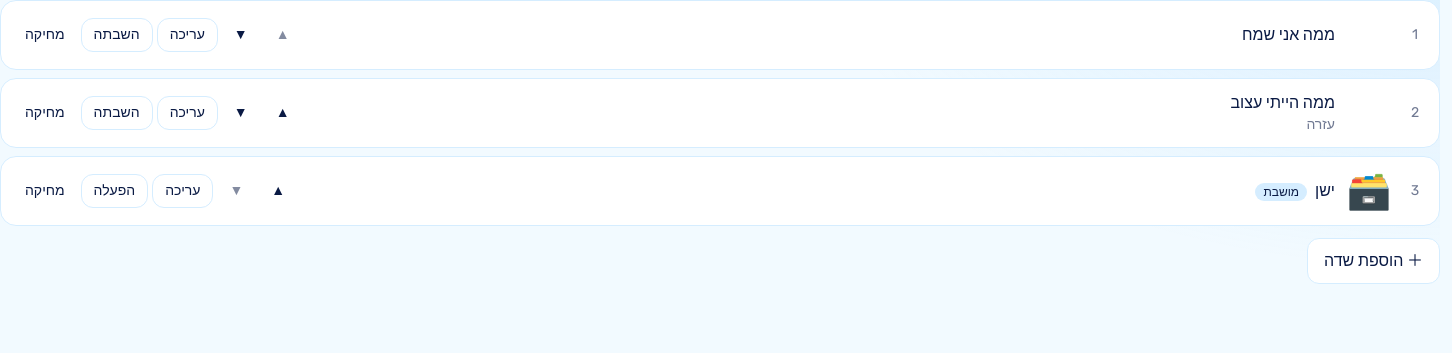
Test: FieldsManager › reverts the order when saving fails
Click the button named "הזזת ממה הייתי עצוב למעלה". click: (283, 113)
box: [264, 96, 302, 130]
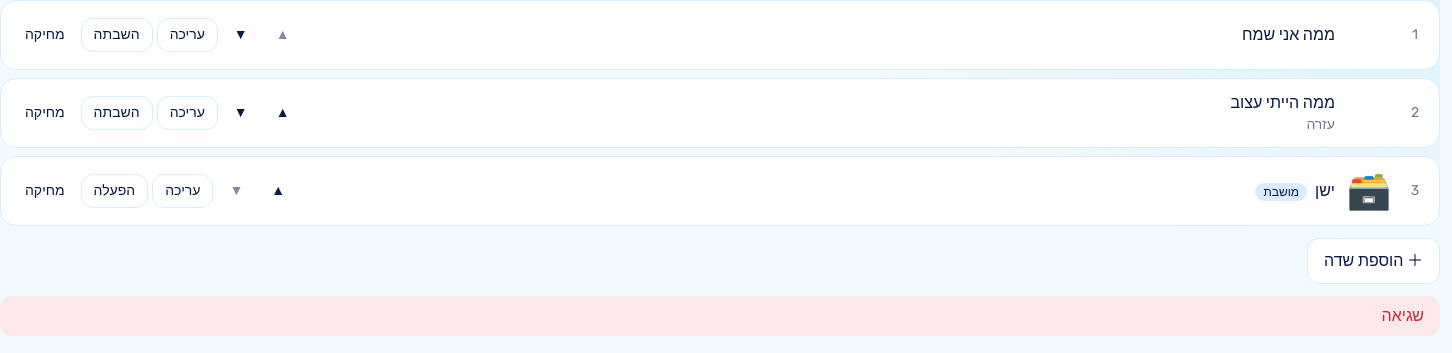
Expected: the list item "1 ממה אני שמח ▲ ▼ עריכה השבתה מחיקה" is shown, [0, 0, 1440, 70]
Result: the message reads "שגיאה" at [1382, 306, 1424, 325]
